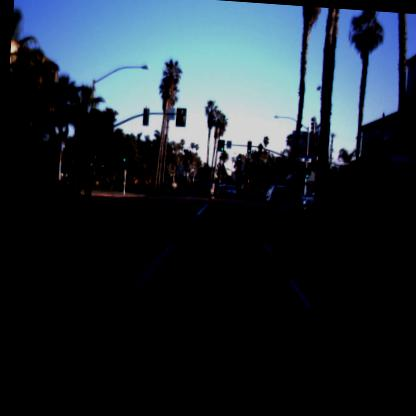trafficlight: (217, 138, 226, 154), (248, 139, 254, 156)
